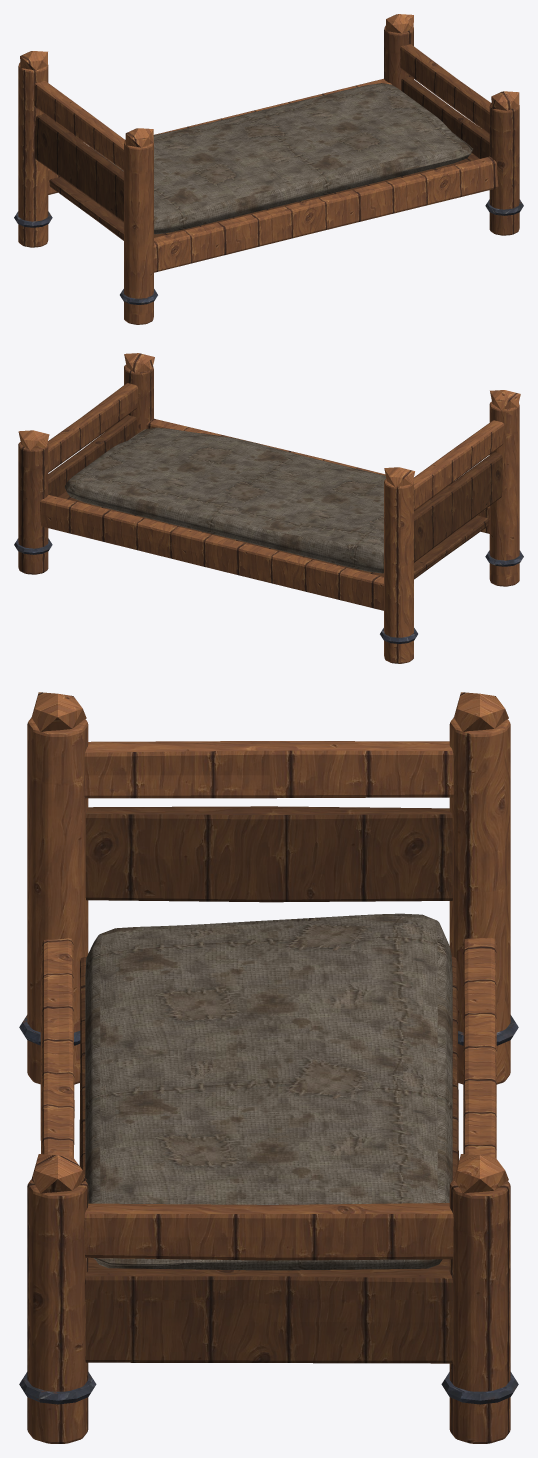
File: bed.glb
3 renders of one model, top to bottom at view 1: azimuth 30°, elevation 25°; view 2: azimuth 150°, elevation 25°; view 3: azimuth 270°, elevation 25°, orthographic. The views are drawn at different scales.
Visible parts, largest first — view 1: model; view 2: model; view 3: model.
Boxes of the visible parts, bbox=[...] form: model: bbox=[14, 14, 523, 324]; model: bbox=[14, 353, 523, 663]; model: bbox=[19, 692, 518, 1443].
Bounding box in the file's own units: 2.07 × 0.9482 × 1.12.
6 materials, 6 textured.
